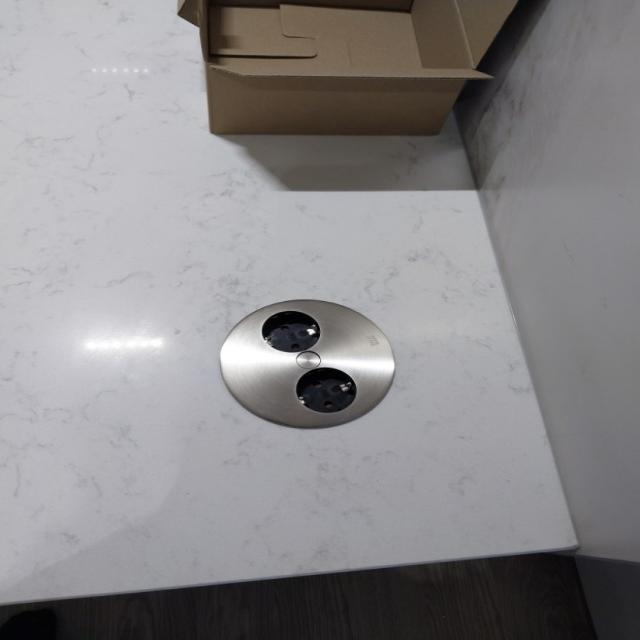typeb: (188, 284, 422, 426)
